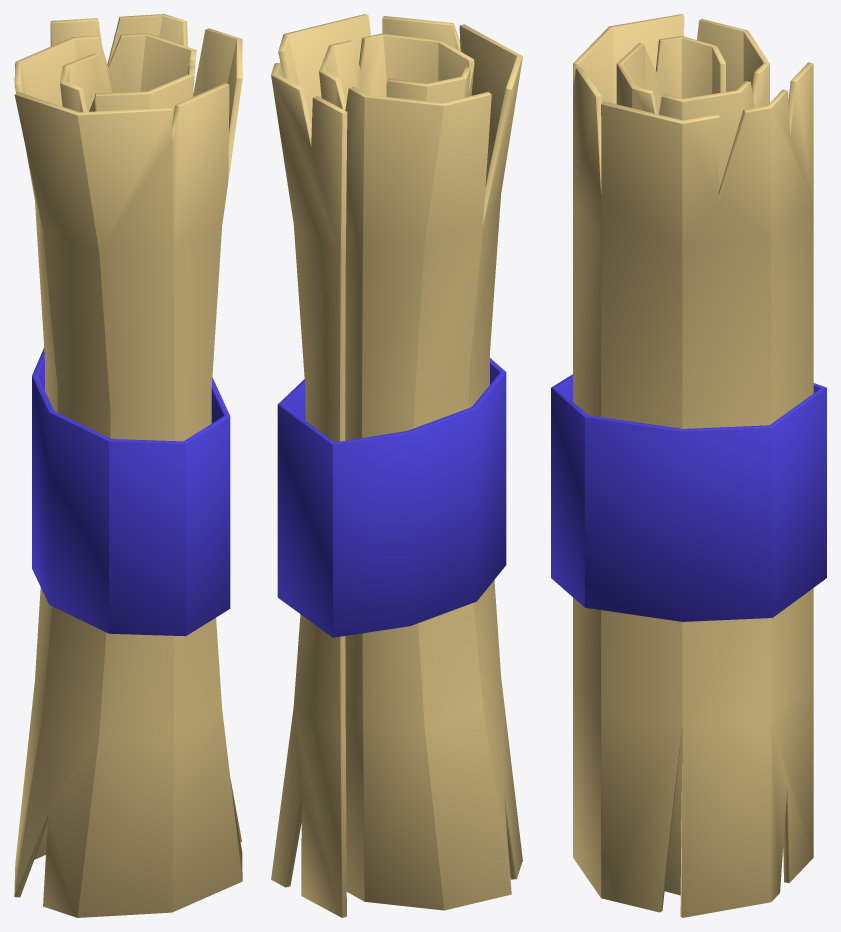
Rendered from scroll2.fbx.
3 views of the same model, side by side, from view 1: azimuth 30°, elevation 25°; view 2: azimuth 150°, elevation 25°; view 3: azimuth 270°, elevation 25° (orthographic).
Visible parts, largest first — view 1: Spiral; view 2: Spiral; view 3: Spiral.
Boxes of the visible parts, x1,y1,x2,y2 form: Spiral: (14, 14, 242, 917); Spiral: (271, 14, 522, 917); Spiral: (551, 14, 826, 917).
Bounding box in the file's own units: 630 × 594 × 2005.
